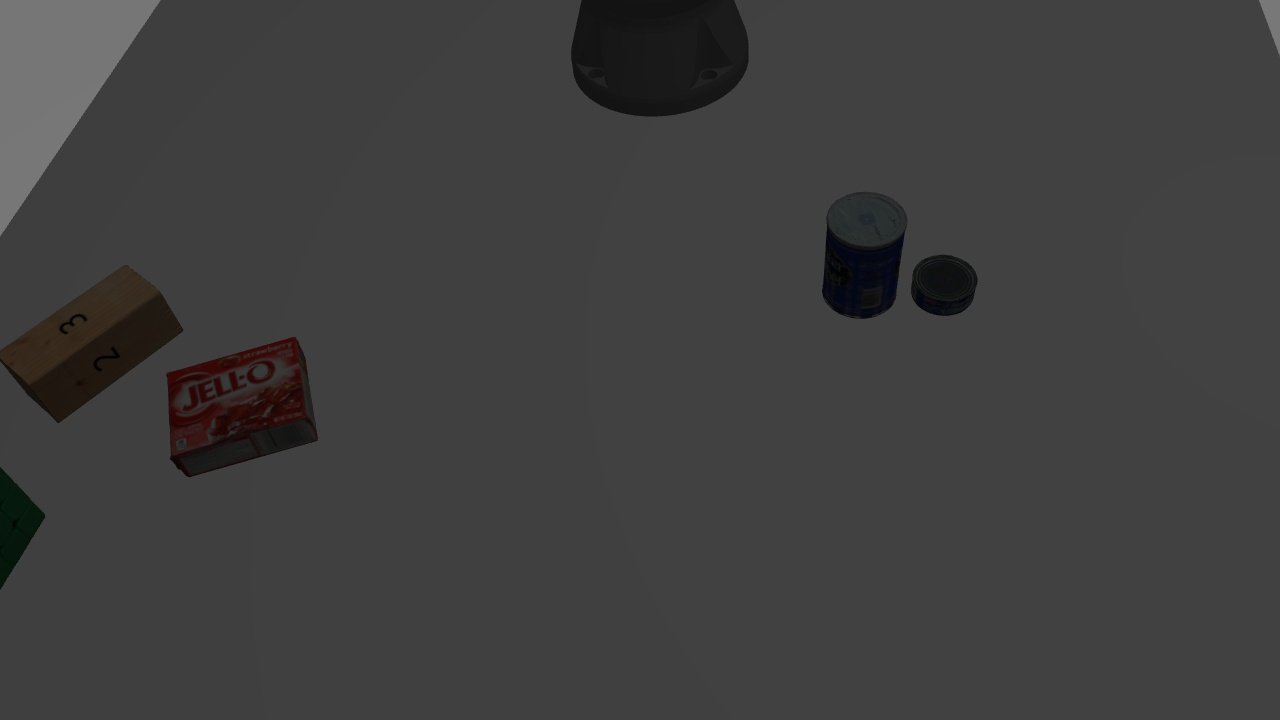gelatin_box: (158, 337, 323, 469)
master_chef_can: (819, 184, 909, 319)
rubiks_cube: (1, 446, 61, 598)
tuna_fish_can: (911, 254, 980, 319)
wood_block: (1, 254, 186, 430)
